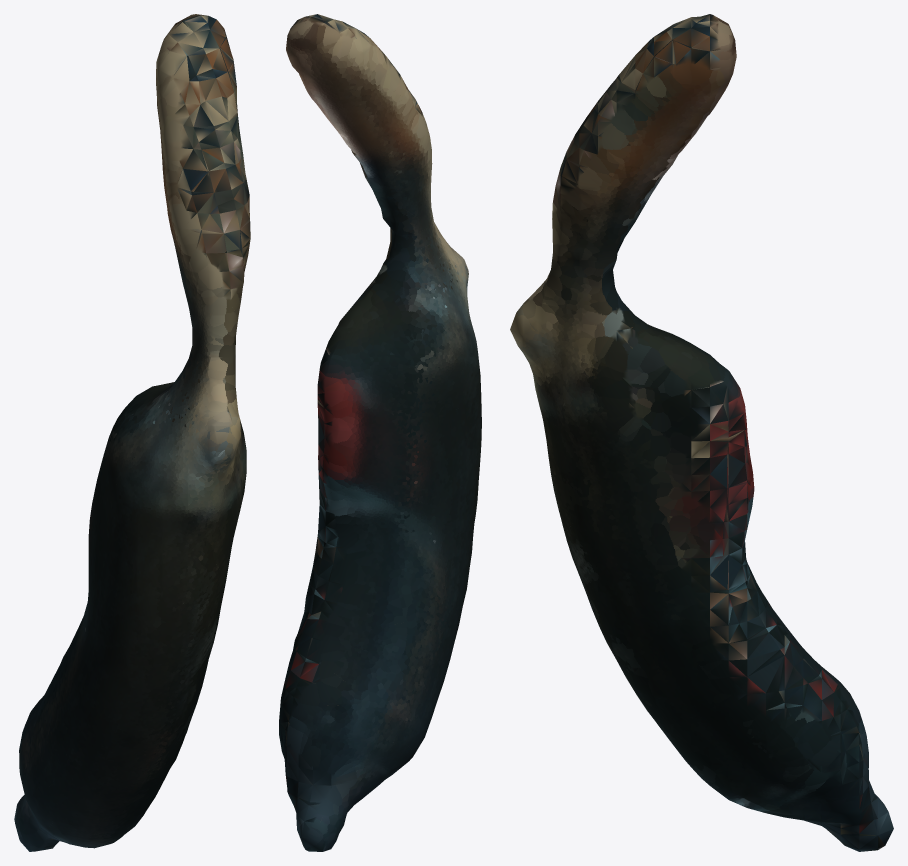
Rendered from weldinggun_new.obj.
3 renders of one model, left to right at view 1: azimuth 30°, elevation 25°; view 2: azimuth 150°, elevation 25°; view 3: azimuth 270°, elevation 25°, orthographic. The views are drawn at different scales.
Size of the model in its own units: 0.063 by 0.3029 by 0.1211.
1 material, 1 textured.
